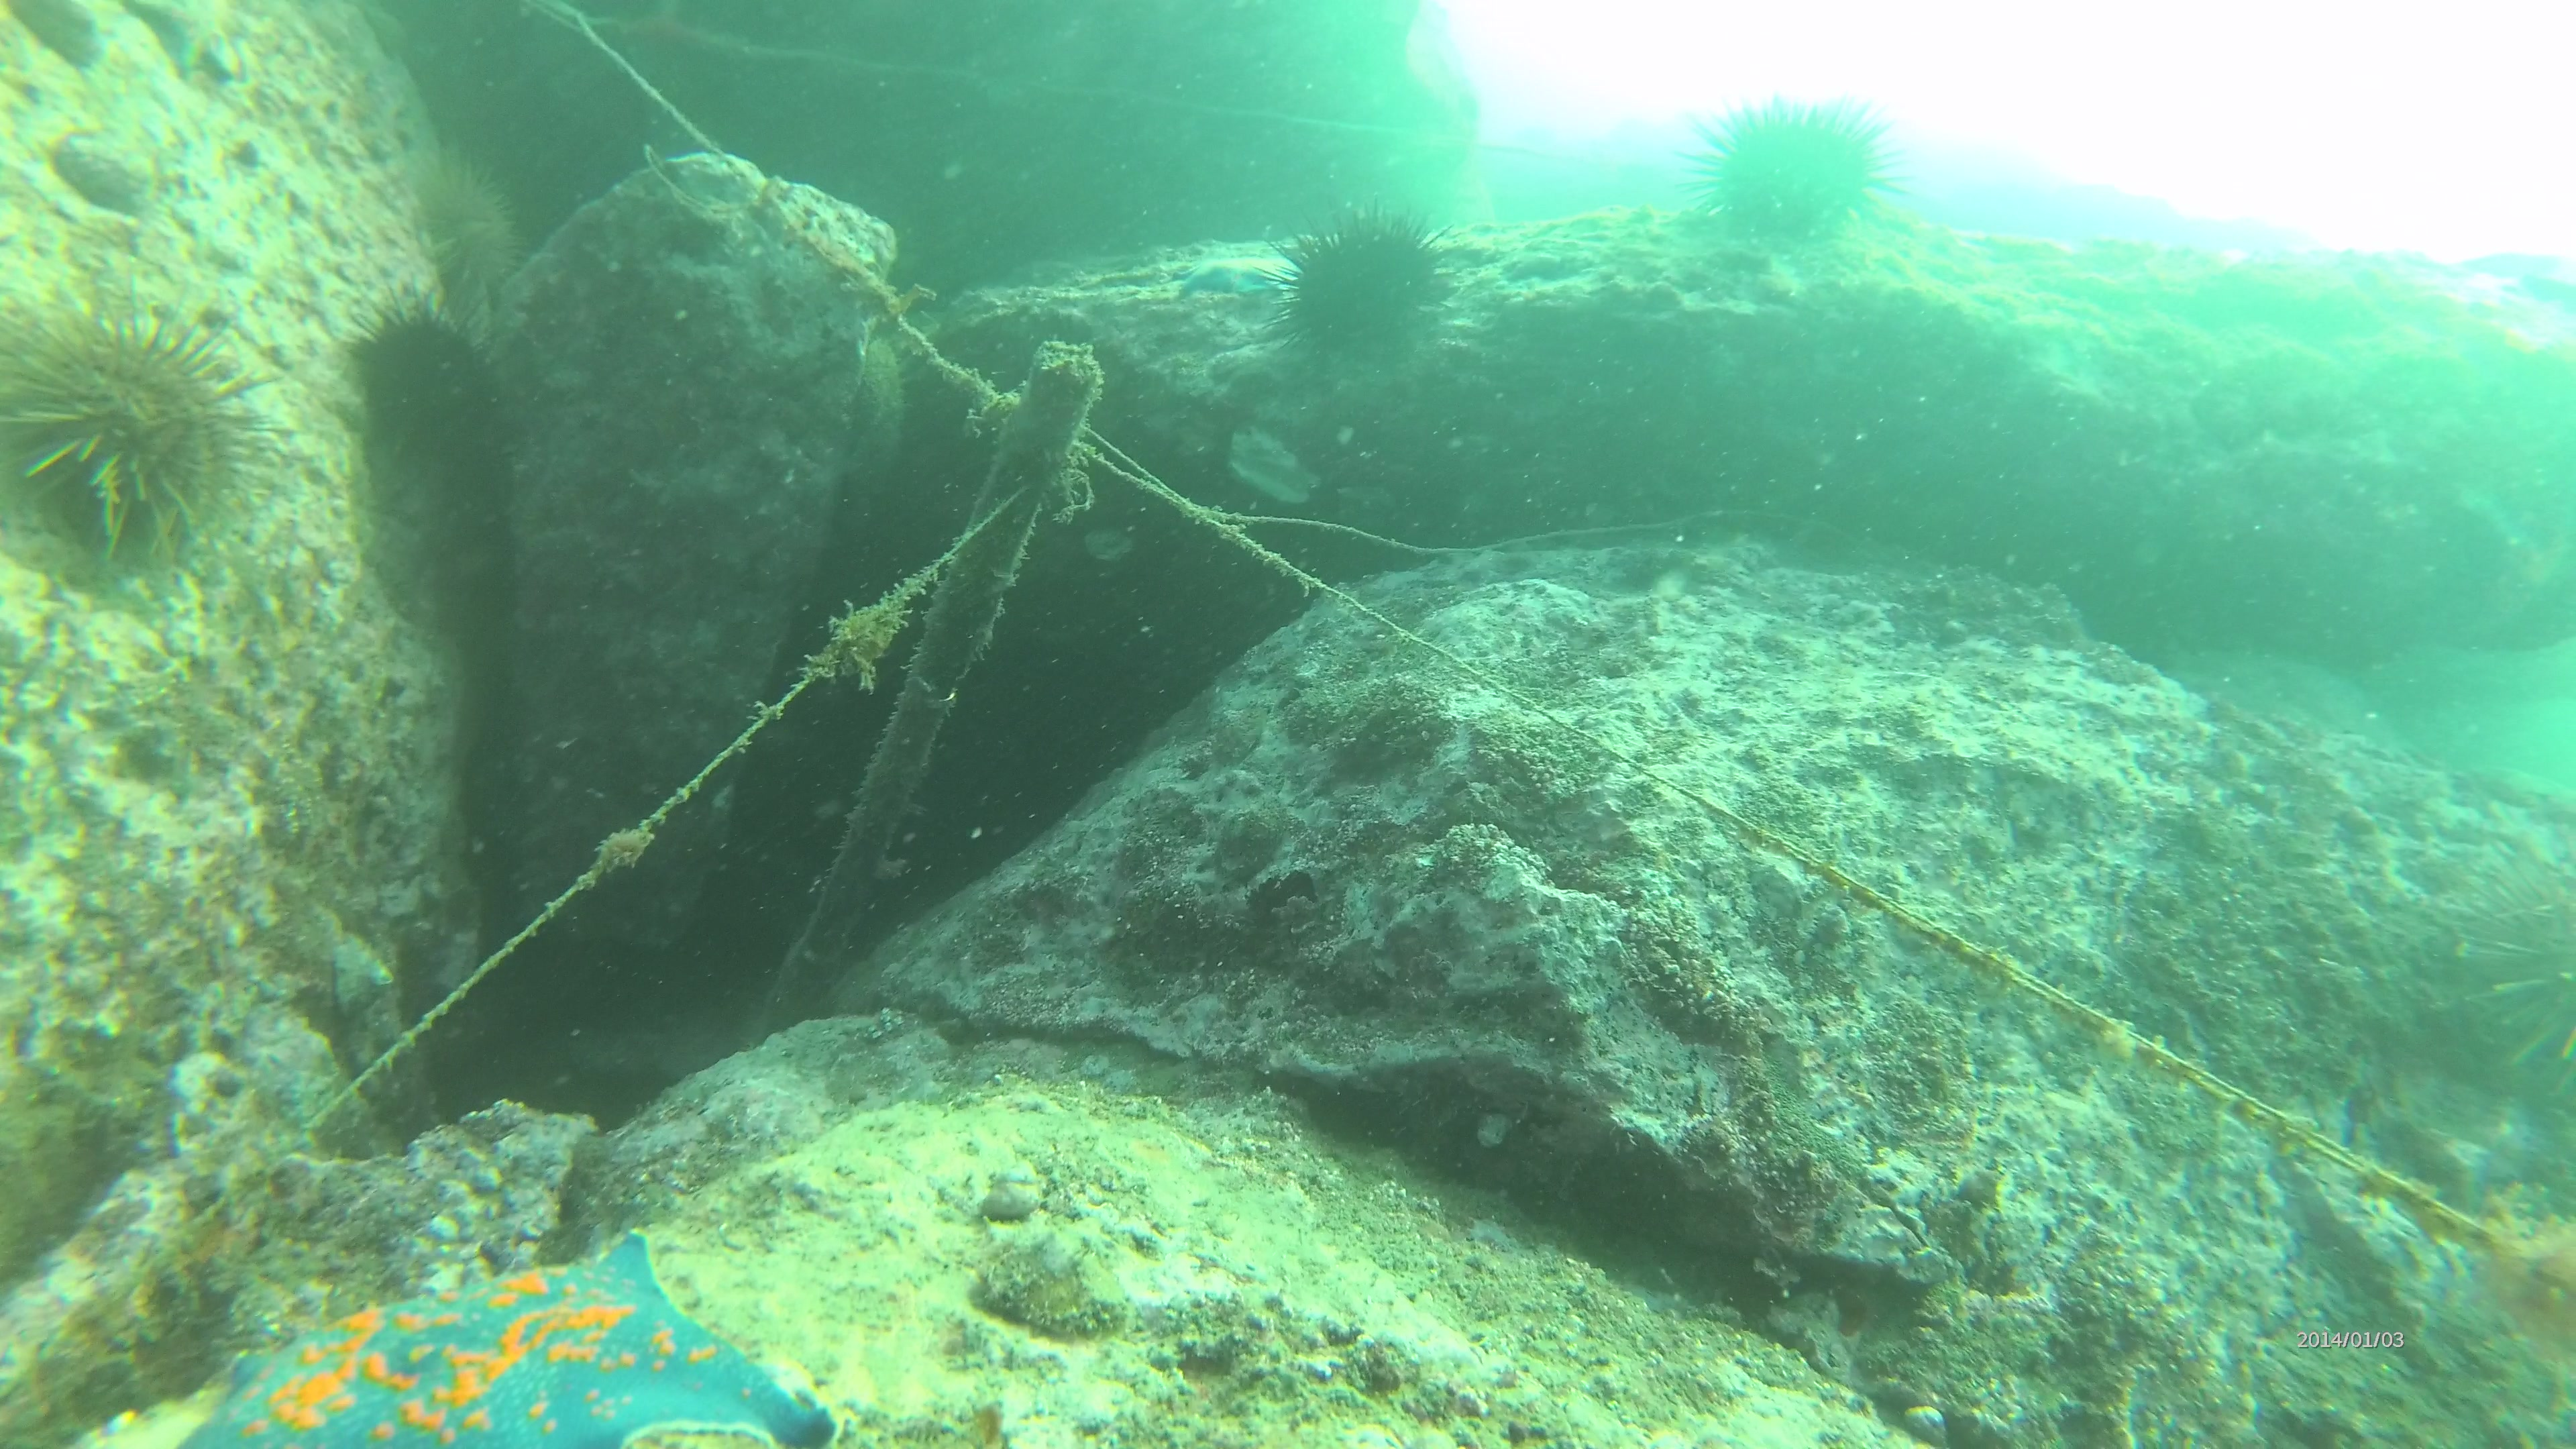echinus: (4, 297, 258, 550), (1695, 97, 1877, 241), (1281, 214, 1449, 366), (352, 304, 511, 456), (412, 143, 524, 311), (2488, 863, 2576, 1063)
starfish: (179, 1230, 835, 1449), (1169, 248, 1297, 308)
